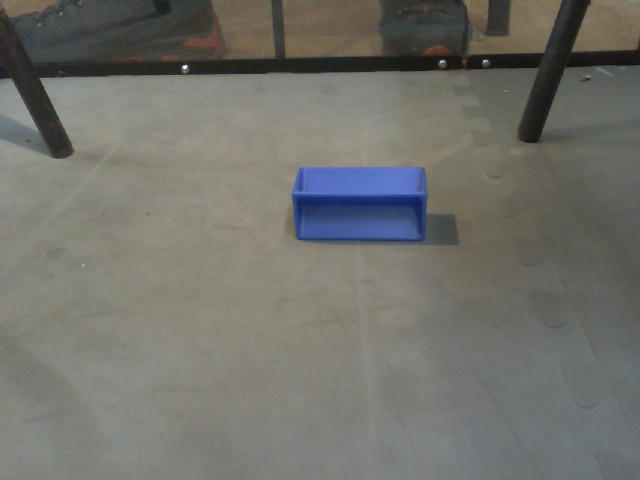BlueSample: (288, 163, 433, 247)
